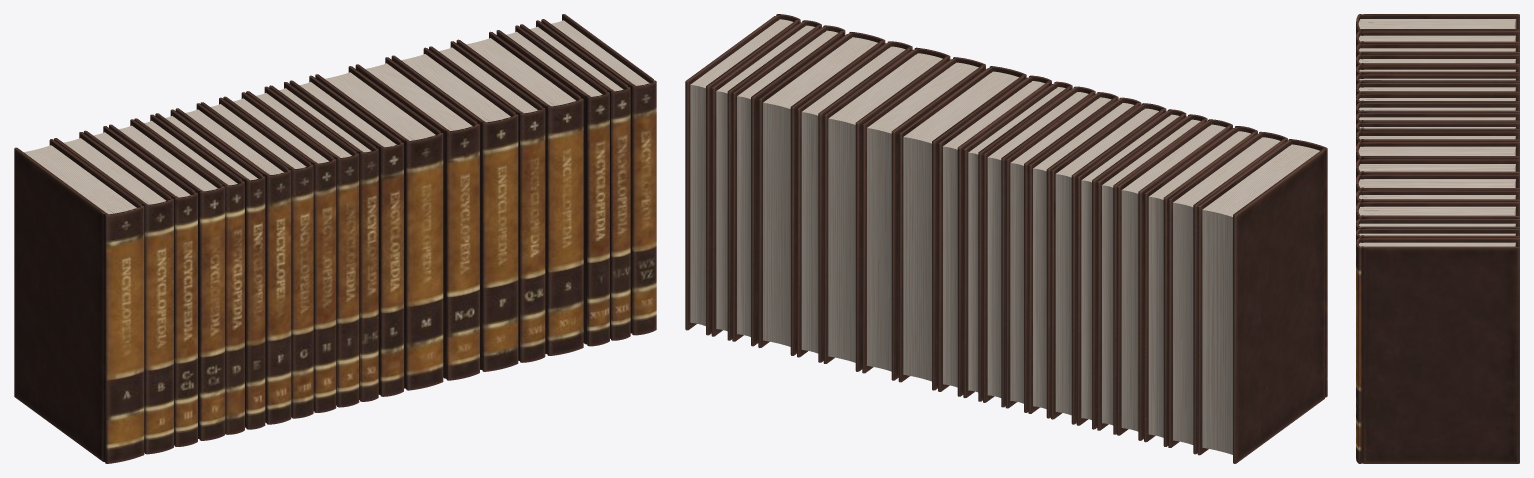
Rendered from library-books.gltf.
3 renders of one model, left to right at view 1: azimuth 30°, elevation 25°; view 2: azimuth 150°, elevation 25°; view 3: azimuth 270°, elevation 25°, orthographic. The views are drawn at different scales.
Visible parts, largest first — view 1: book_encyclopedia_set_01_book01, book_encyclopedia_set_01_book13, book_encyclopedia_set_01_book15, book_encyclopedia_set_01_book17, book_encyclopedia_set_01_book14, book_encyclopedia_set_01_book02, book_encyclopedia_set_01_book16, book_encyclopedia_set_01_book04, book_encyclopedia_set_01_book18, book_encyclopedia_set_01_book20, book_encyclopedia_set_01_book07, book_encyclopedia_set_01_book12 (+8 smaller); view 2: book_encyclopedia_set_01_book01, book_encyclopedia_set_01_book13, book_encyclopedia_set_01_book15, book_encyclopedia_set_01_book17, book_encyclopedia_set_01_book14, book_encyclopedia_set_01_book02, book_encyclopedia_set_01_book04, book_encyclopedia_set_01_book16, book_encyclopedia_set_01_book18, book_encyclopedia_set_01_book20, book_encyclopedia_set_01_book07, book_encyclopedia_set_01_book12 (+8 smaller); view 3: book_encyclopedia_set_01_book20, book_encyclopedia_set_01_book13, book_encyclopedia_set_01_book01, book_encyclopedia_set_01_book17, book_encyclopedia_set_01_book15, book_encyclopedia_set_01_book14, book_encyclopedia_set_01_book02, book_encyclopedia_set_01_book16, book_encyclopedia_set_01_book03, book_encyclopedia_set_01_book12, book_encyclopedia_set_01_book07, book_encyclopedia_set_01_book04 (+8 smaller).
Part boxes in pixels (<box>): book_encyclopedia_set_01_book01: <box>14,139,144,463</box>; book_encyclopedia_set_01_book13: <box>315,66,443,390</box>; book_encyclopedia_set_01_book15: <box>391,47,518,371</box>; book_encyclopedia_set_01_book17: <box>456,31,583,355</box>; book_encyclopedia_set_01_book14: <box>355,57,479,380</box>; book_encyclopedia_set_01_book02: <box>54,132,173,454</box>; book_encyclopedia_set_01_book16: <box>429,41,545,362</box>; book_encyclopedia_set_01_book04: <box>109,119,224,440</box>; book_encyclopedia_set_01_book18: <box>496,25,609,346</box>; book_encyclopedia_set_01_book20: <box>541,14,656,335</box>; book_encyclopedia_set_01_book07: <box>175,103,291,424</box>; book_encyclopedia_set_01_book12: <box>289,75,403,396</box>; book_encyclopedia_set_01_book01: <box>1197,139,1327,463</box>; book_encyclopedia_set_01_book13: <box>898,66,1026,390</box>; book_encyclopedia_set_01_book15: <box>823,47,950,371</box>; book_encyclopedia_set_01_book17: <box>758,32,885,355</box>; book_encyclopedia_set_01_book14: <box>862,57,985,380</box>; book_encyclopedia_set_01_book02: <box>1168,131,1287,454</box>; book_encyclopedia_set_01_book04: <box>1117,119,1232,440</box>; book_encyclopedia_set_01_book16: <box>797,41,912,362</box>; book_encyclopedia_set_01_book18: <box>732,25,845,346</box>; book_encyclopedia_set_01_book20: <box>685,14,800,335</box>; book_encyclopedia_set_01_book07: <box>1051,103,1166,424</box>; book_encyclopedia_set_01_book12: <box>938,75,1051,396</box>; book_encyclopedia_set_01_book20: <box>1356,238,1519,463</box>; book_encyclopedia_set_01_book13: <box>1356,142,1519,164</box>; book_encyclopedia_set_01_book01: <box>1356,14,1519,35</box>; book_encyclopedia_set_01_book17: <box>1356,202,1519,222</box>; book_encyclopedia_set_01_book15: <box>1356,174,1519,194</box>; book_encyclopedia_set_01_book14: <box>1356,159,1519,180</box>; book_encyclopedia_set_01_book02: <box>1356,30,1519,47</box>; book_encyclopedia_set_01_book16: <box>1356,190,1519,208</box>; book_encyclopedia_set_01_book03: <box>1356,43,1519,58</box>; book_encyclopedia_set_01_book12: <box>1356,131,1519,148</box>; book_encyclopedia_set_01_book07: <box>1356,82,1519,96</box>; book_encyclopedia_set_01_book04: <box>1356,54,1519,68</box>.
Size of the model in its own units: 0.5513 by 0.2374 by 0.1631.
Materials: 2 (2 with a texture image).
